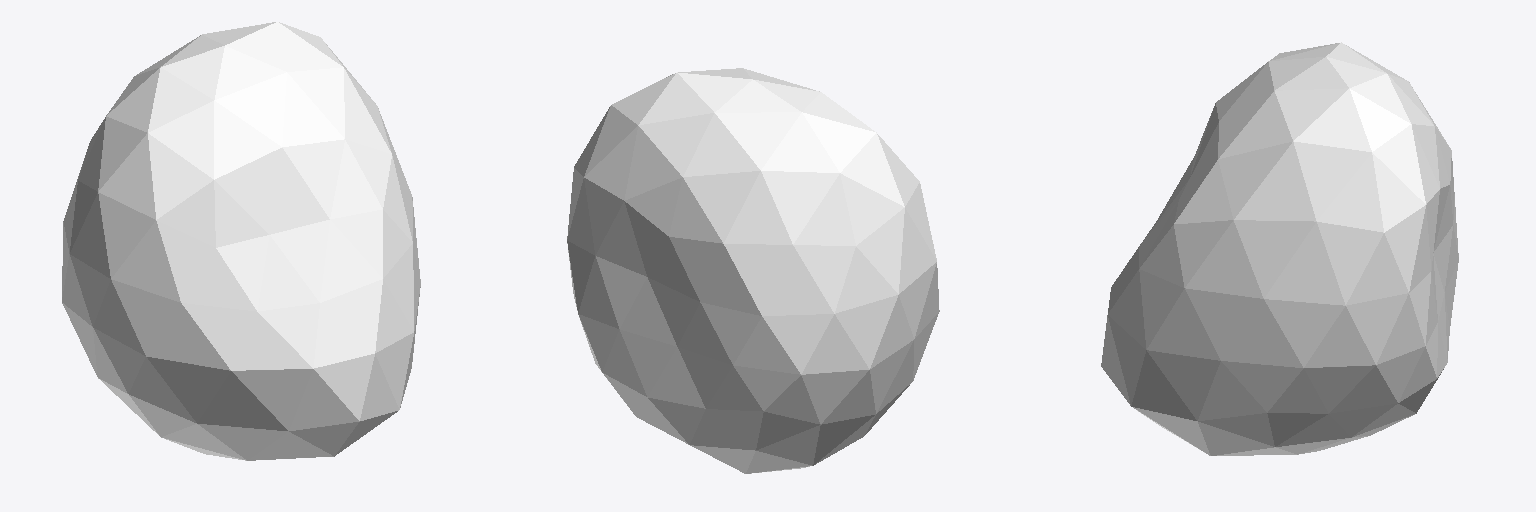
The model's file is oolite_alt_asteroid.obj.
3 views of the same model, side by side, from view 1: azimuth 30°, elevation 25°; view 2: azimuth 150°, elevation 25°; view 3: azimuth 270°, elevation 25° (orthographic).
Parts seen in each view (by area): view 1: oolite_alt_asteroid.obj; view 2: oolite_alt_asteroid.obj; view 3: oolite_alt_asteroid.obj.
Boxes of the visible parts, <box> form: oolite_alt_asteroid.obj: <box>62,22,420,460</box>; oolite_alt_asteroid.obj: <box>567,68,939,473</box>; oolite_alt_asteroid.obj: <box>1101,42,1458,455</box>.
Bounding box in the file's own units: 290 × 341 × 283.